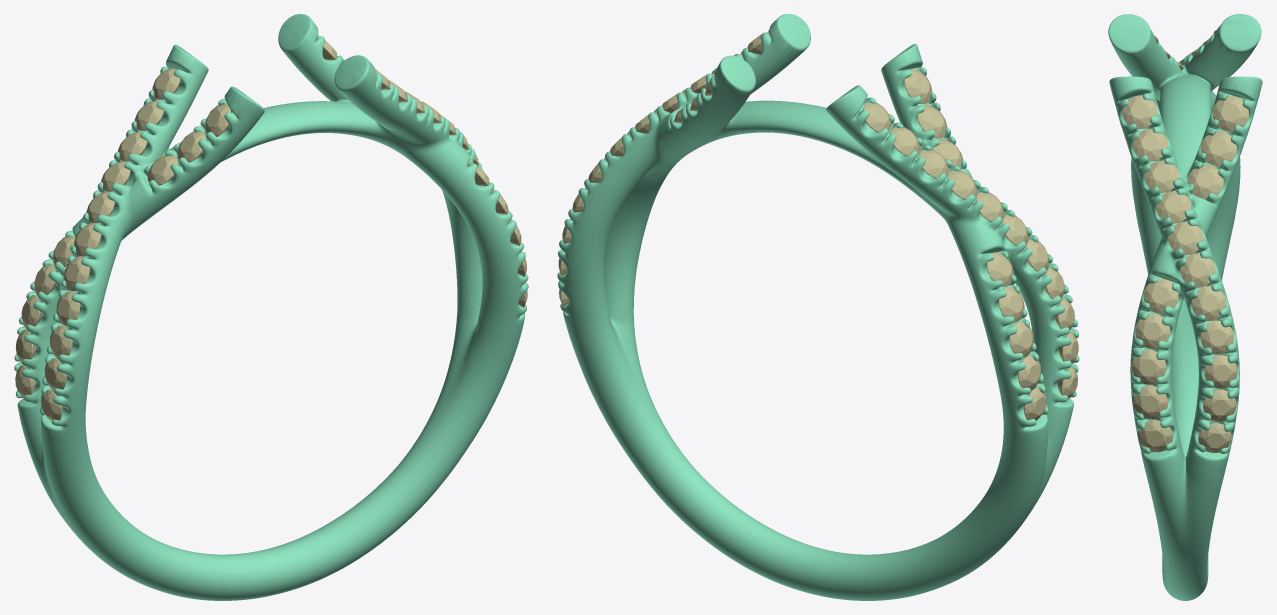
The picture shows the model from 3 angles, left to right: view 1: azimuth 30°, elevation 25°; view 2: azimuth 150°, elevation 25°; view 3: azimuth 270°, elevation 25°; orthographic projection.
Visible parts, largest first — view 1: Metal02; view 2: Metal02; view 3: Metal02, Diamond_Gem.018, Diamond_Gem.017, Diamond_Gem.016, Diamond_Gem, Diamond_Gem.002, Diamond_Gem.009, Diamond_Gem.001, Diamond_Gem.010, Diamond_Gem.003, Diamond_Gem.015, Diamond_Gem.011 (+8 smaller).
Part boxes in pixels (left/top/right/bottom): Metal02: left=14, top=14, right=528, bottom=600; Metal02: left=557, top=14, right=1079, bottom=600; Metal02: left=1108, top=14, right=1262, bottom=600; Diamond_Gem.018: left=1212, top=96, right=1248, bottom=131; Diamond_Gem.017: left=1200, top=131, right=1236, bottom=166; Diamond_Gem.016: left=1187, top=165, right=1223, bottom=198; Diamond_Gem: left=1143, top=279, right=1178, bottom=313; Diamond_Gem.002: left=1131, top=349, right=1166, bottom=384; Diamond_Gem.009: left=1191, top=286, right=1226, bottom=320; Diamond_Gem.001: left=1135, top=314, right=1170, bottom=348; Diamond_Gem.010: left=1180, top=253, right=1215, bottom=287; Diamond_Gem.003: left=1133, top=385, right=1167, bottom=419; Diamond_Gem.015: left=1122, top=95, right=1157, bottom=128; Diamond_Gem.011: left=1168, top=221, right=1203, bottom=254.
Size of the model in its own units: 21.04 by 22.51 by 5.93.
